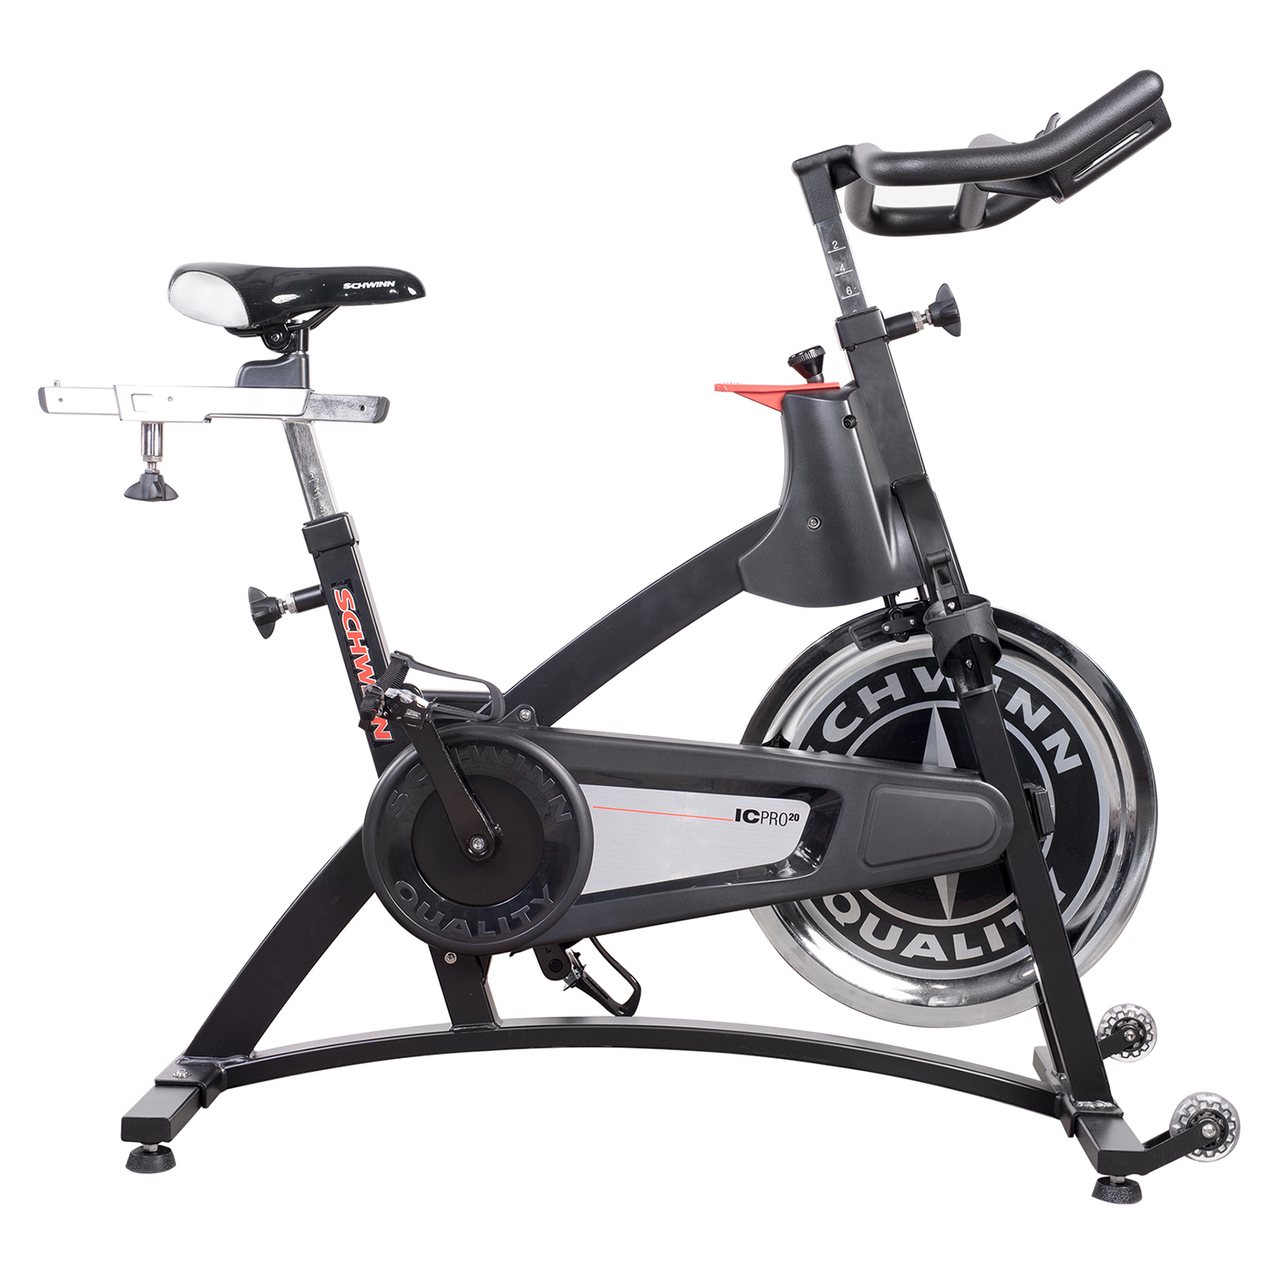gym_bike: (43, 64, 1240, 1213)
